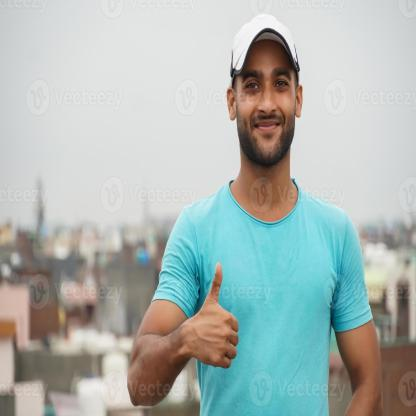Thumbs-Up: (174, 249, 252, 384)
